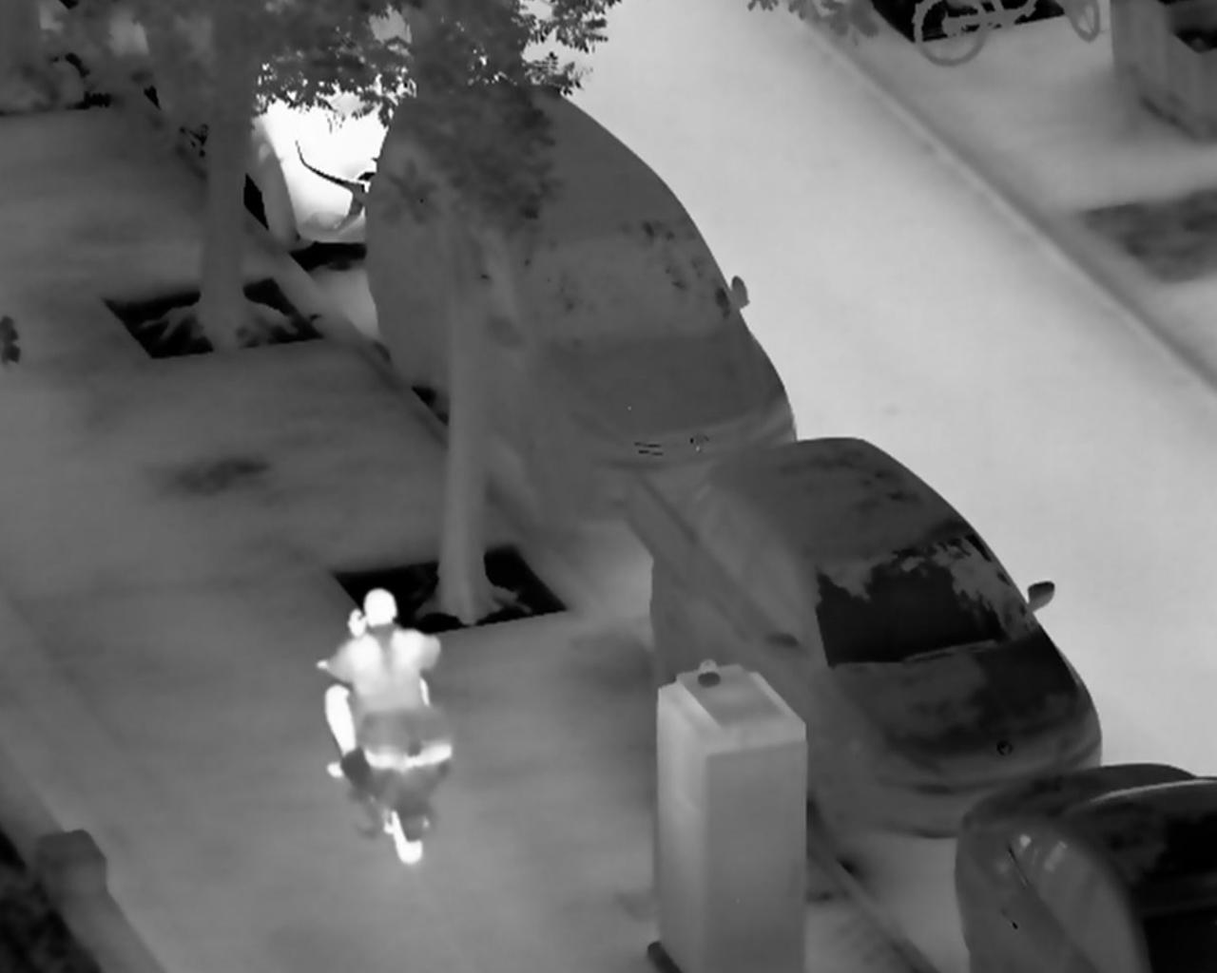person: (315, 583, 445, 781)
